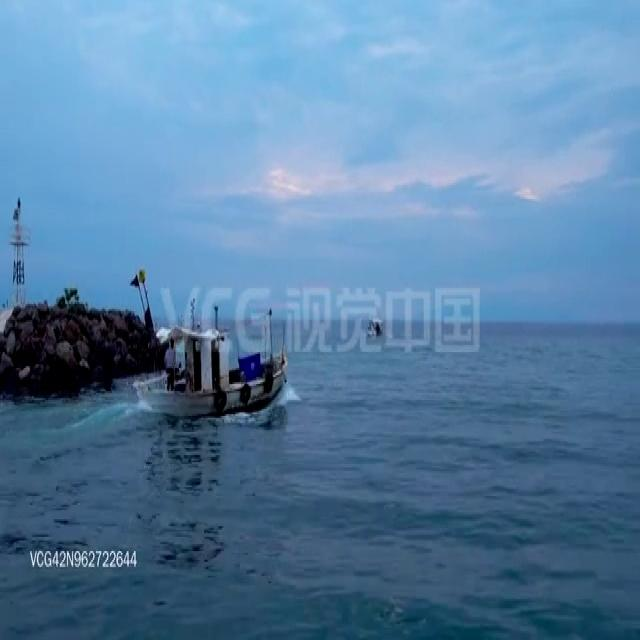houseboat: (128, 290, 290, 418), (366, 307, 383, 342)
